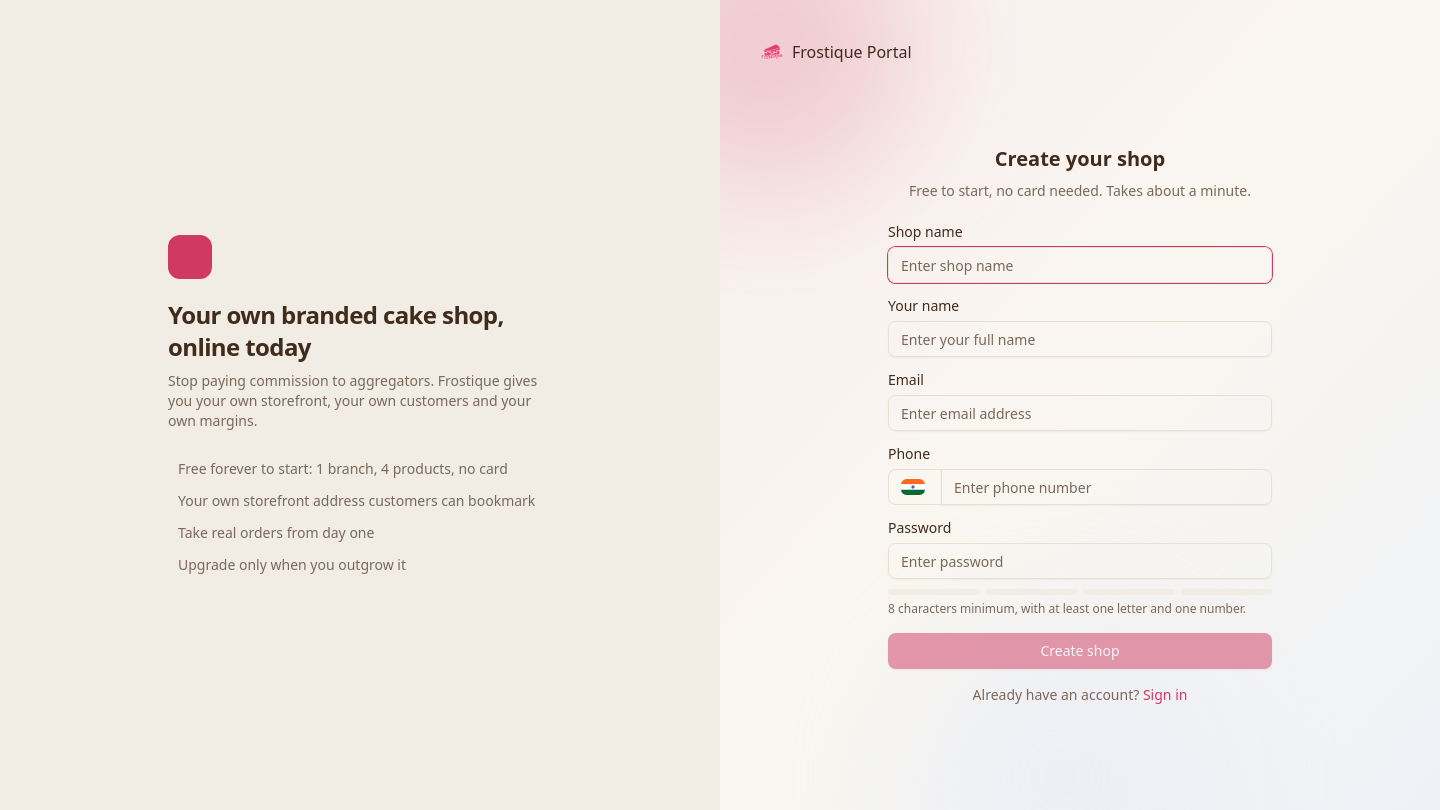
Test case: RegisterPage: storefront address › previews the address the shop name derives
Type "Golden Cake" into the field labelled "Shop name" at point(1080, 265), box [888,247,1272,283]
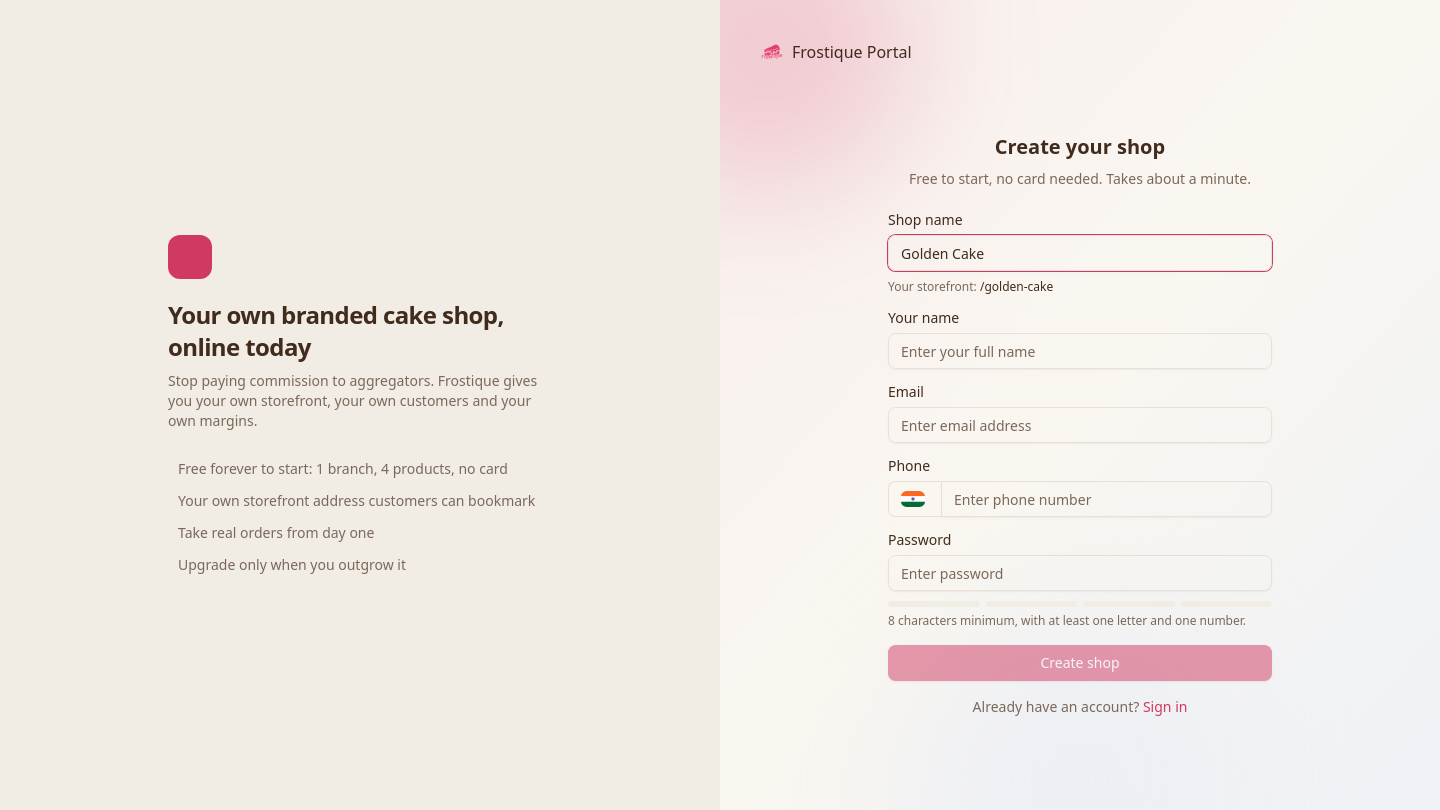
Now the text "/golden-cake" is shown, box [980,278,1053,295]
